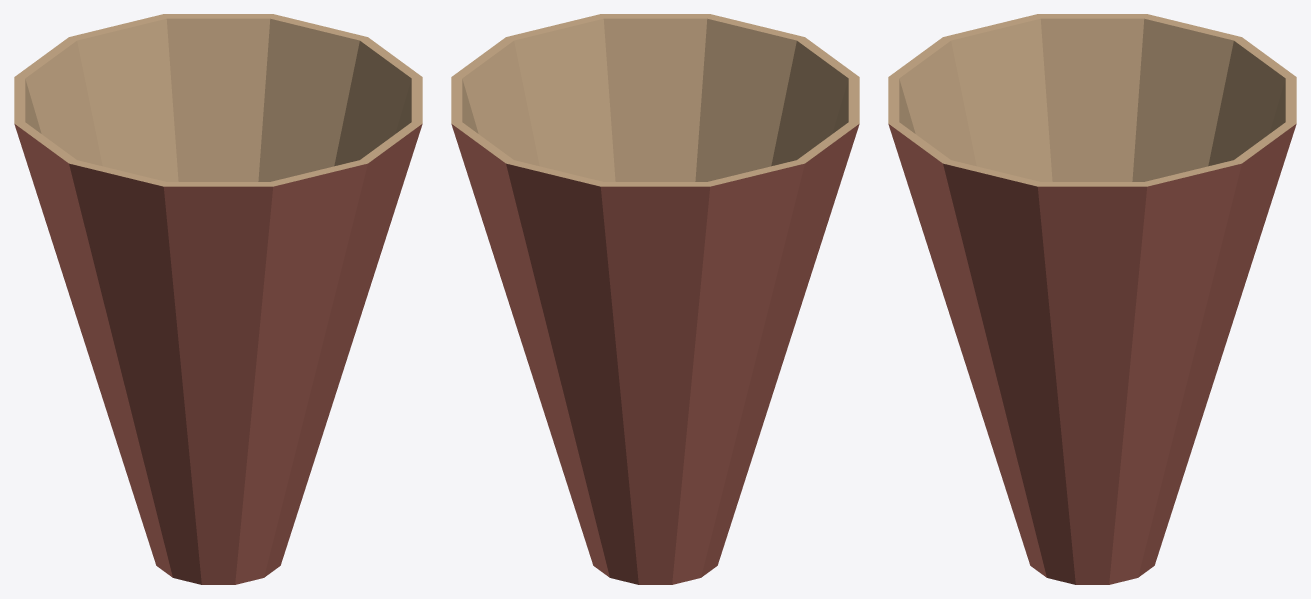
The picture shows the model from 3 angles, left to right: view 1: azimuth 30°, elevation 25°; view 2: azimuth 150°, elevation 25°; view 3: azimuth 270°, elevation 25°; orthographic projection.
Parts seen in each view (by area): view 1: ContinuousOpenThroatFlaredBouquetSleeve; view 2: ContinuousOpenThroatFlaredBouquetSleeve; view 3: ContinuousOpenThroatFlaredBouquetSleeve.
Boxes of the visible parts, left/top/right/bottom form: ContinuousOpenThroatFlaredBouquetSleeve: left=14, top=14, right=422, bottom=584; ContinuousOpenThroatFlaredBouquetSleeve: left=451, top=14, right=859, bottom=584; ContinuousOpenThroatFlaredBouquetSleeve: left=888, top=14, right=1296, bottom=584.
Size of the model in its own units: 0.1777 by 0.22 by 0.1777.
